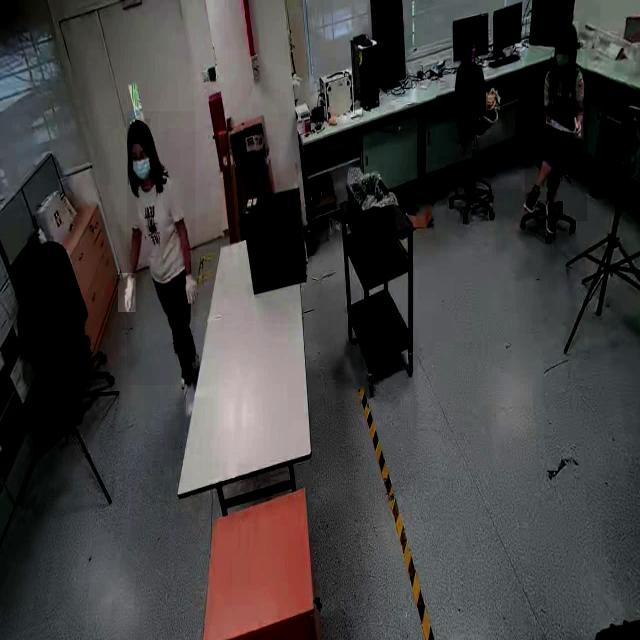face_mask: (132, 144, 150, 188), (554, 40, 572, 75)
hand_glove: (184, 262, 198, 318), (118, 273, 136, 313)
hand_noglove: (573, 116, 583, 140), (544, 108, 552, 129)
head_nohelmet: (127, 118, 151, 143), (555, 21, 579, 41)
person: (127, 111, 196, 386), (524, 32, 588, 222)
shoes: (543, 196, 557, 238), (524, 184, 542, 213)
